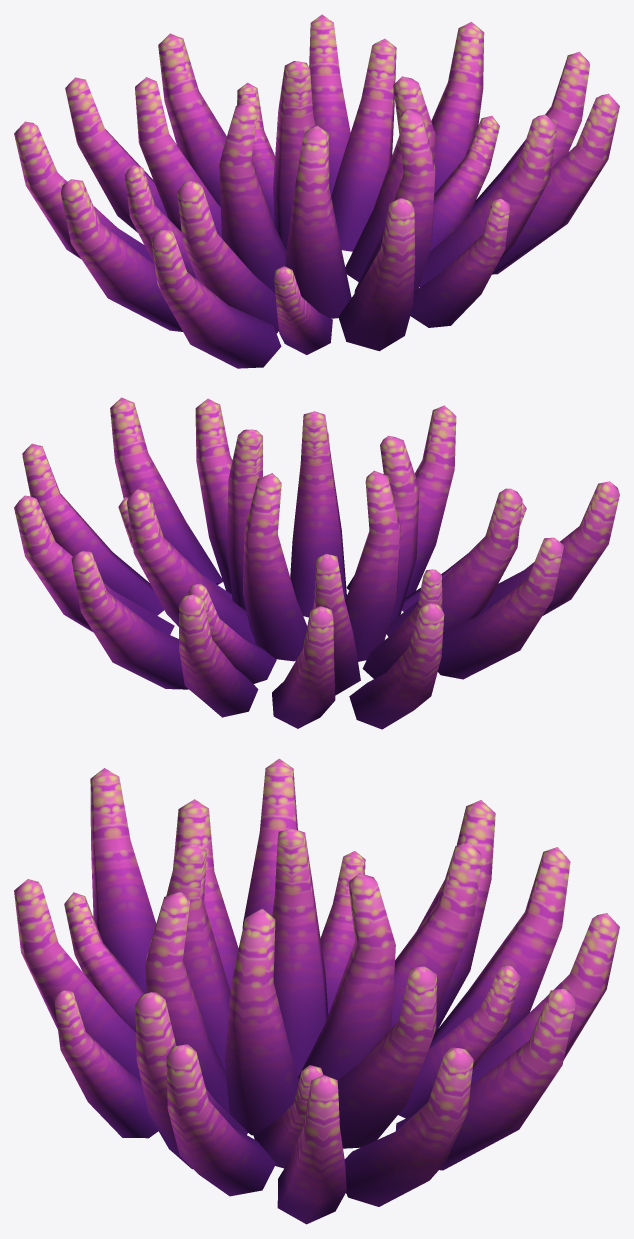
Rendered from Coral_13c.FBX.
The picture shows the model from 3 angles, top to bottom: view 1: azimuth 30°, elevation 25°; view 2: azimuth 150°, elevation 25°; view 3: azimuth 270°, elevation 25°; orthographic projection. The views are drawn at different scales.
Visible parts, largest first — view 1: Coral_13 c; view 2: Coral_13 c; view 3: Coral_13 c.
Part boxes in pixels (<box>): Coral_13 c: <box>14,14,619,368</box>; Coral_13 c: <box>14,397,619,729</box>; Coral_13 c: <box>14,758,619,1224</box>.
Size of the model in its own units: 67.18 by 25.64 by 55.34.
